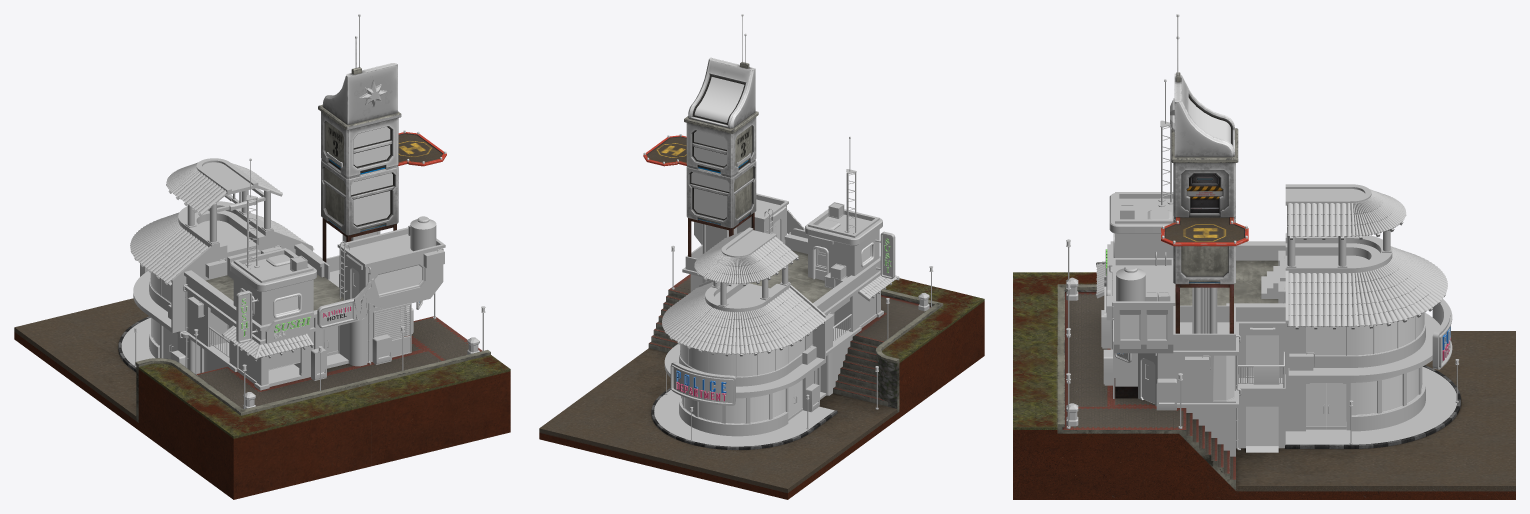
Rendered from Diorama.fbx.
3 views of the same model, side by side, from view 1: azimuth 30°, elevation 25°; view 2: azimuth 150°, elevation 25°; view 3: azimuth 270°, elevation 25° (orthographic). The views are drawn at different scales.
Parts seen in each view (by area): view 1: Plane.001, Cube.009, Cube.019, Building 1, Cube.014, Cube.010, Plane, Building 1_Roof, Cube.011, Cube.012, Cube.017, Building 1.001 (+5 smaller); view 2: Plane, Building 1, Cube.019, Building 1_Roof, Plane.001, Cube.009, Cube.011, Building 1_Window, Cube.014, Cube.010, Building 1.002, Cube.012 (+3 smaller); view 3: Cube.010, Plane, Plane.001, Building 1, Building 1_Roof, Cube.019, Cube.011, Cube.014, Building 1_Window, Cube.009, Cube.012, Building 1.001 (+5 smaller).
Part boxes in pixels (<box>): Plane.001: <box>14,327,510,499</box>; Cube.009: <box>181,158,411,390</box>; Cube.019: <box>318,14,401,262</box>; Building 1: <box>121,158,312,366</box>; Cube.014: <box>136,350,509,436</box>; Cube.010: <box>294,227,445,339</box>; Plane: <box>15,298,148,415</box>; Building 1_Roof: <box>130,162,314,358</box>; Cube.011: <box>196,316,482,408</box>; Cube.012: <box>325,121,446,170</box>; Cube.017: <box>317,278,382,328</box>; Building 1.001: <box>205,274,345,310</box>; Plane: <box>539,348,896,488</box>; Building 1: <box>654,227,834,446</box>; Cube.019: <box>684,14,758,256</box>; Building 1_Roof: <box>662,231,897,354</box>; Plane.001: <box>539,299,984,499</box>; Cube.009: <box>784,136,899,399</box>; Cube.011: <box>648,274,930,406</box>; Building 1_Window: <box>680,337,804,423</box>; Cube.014: <box>875,278,983,408</box>; Cube.010: <box>682,193,788,291</box>; Building 1.002: <box>670,362,735,405</box>; Cube.012: <box>643,125,752,169</box>; Cube.010: <box>1112,251,1285,456</box>; Plane: <box>1236,331,1515,485</box>; Plane.001: <box>1013,424,1515,499</box>; Building 1: <box>1261,184,1457,444</box>; Building 1_Roof: <box>1096,189,1447,326</box>; Cube.019: <box>1171,14,1238,333</box>; Cube.011: <box>1062,292,1235,479</box>; Cube.014: <box>1013,272,1096,427</box>; Building 1_Window: <box>1306,312,1424,426</box>; Cube.009: <box>1095,79,1285,398</box>; Cube.012: <box>1161,170,1248,246</box>; Building 1.001: <box>1175,260,1278,305</box>.
Size of the model in its own units: 1208 by 1570 by 1621.
